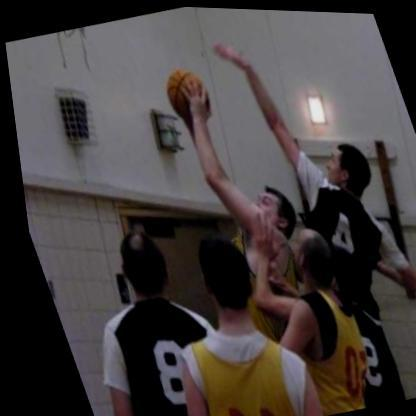basketball: (149, 49, 221, 128)
